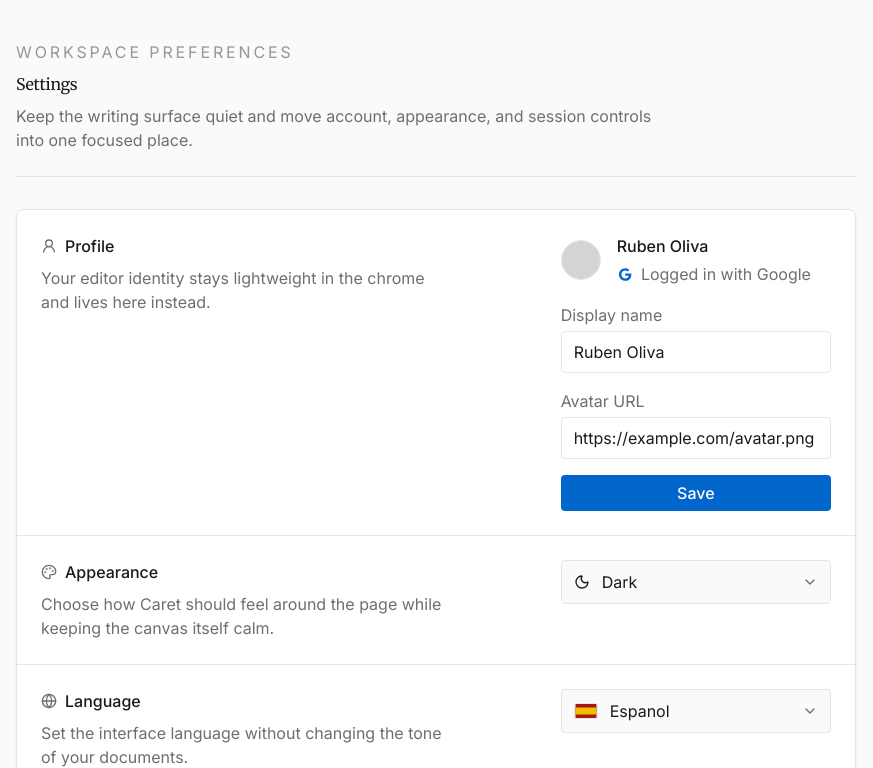
Test: SettingsPage › shows flag visuals inside the language menu options
Click the button with aria-label "language" at (640, 710), box [561,688,831,732]
(page scrolled)
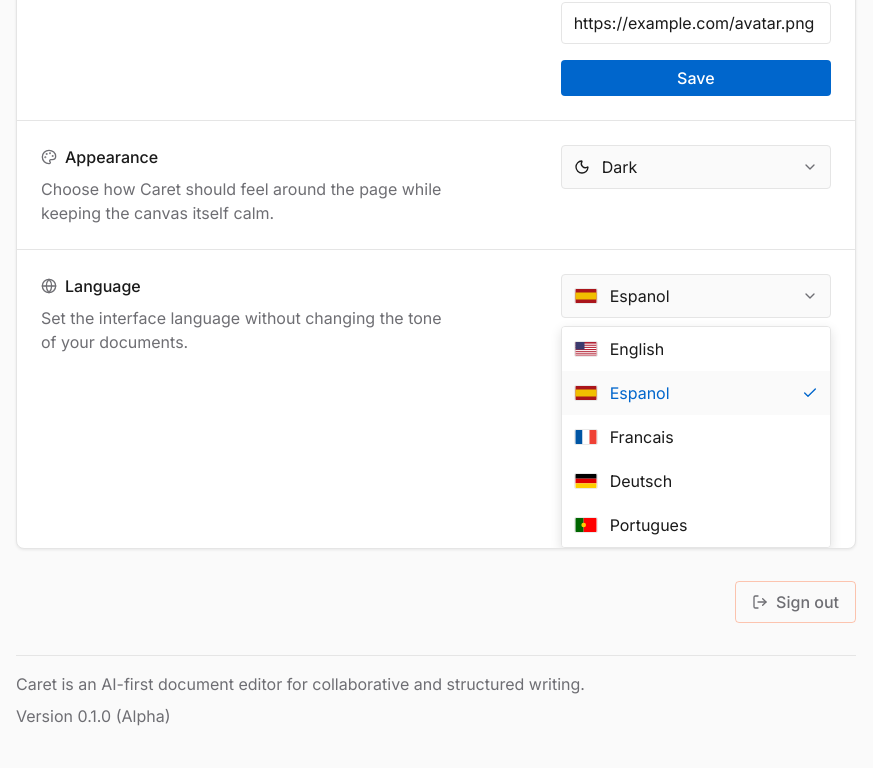
Expected: the element with test id "flag-us" is shown, [574,340,598,356]
Expected: the element with test id "flag-de" is shown, [574,472,598,488]
